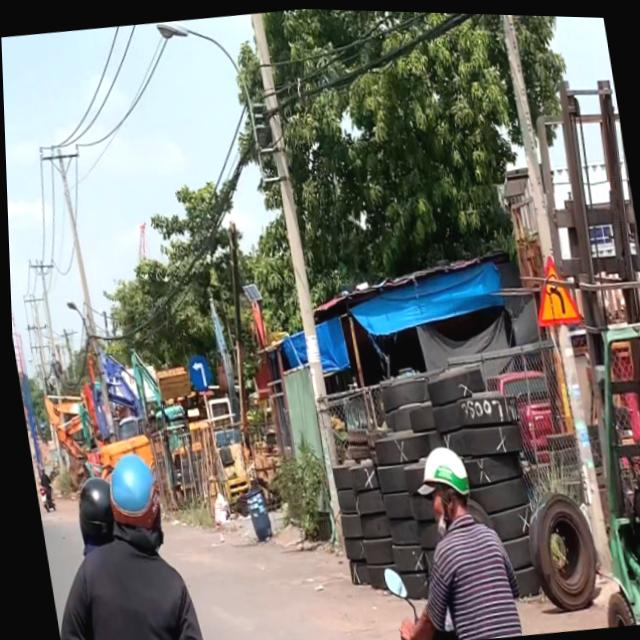Cac xe chi duoc re trai: (182, 349, 211, 393)
cho ngoat nguy hiem vong ben trai: (522, 245, 583, 329)
